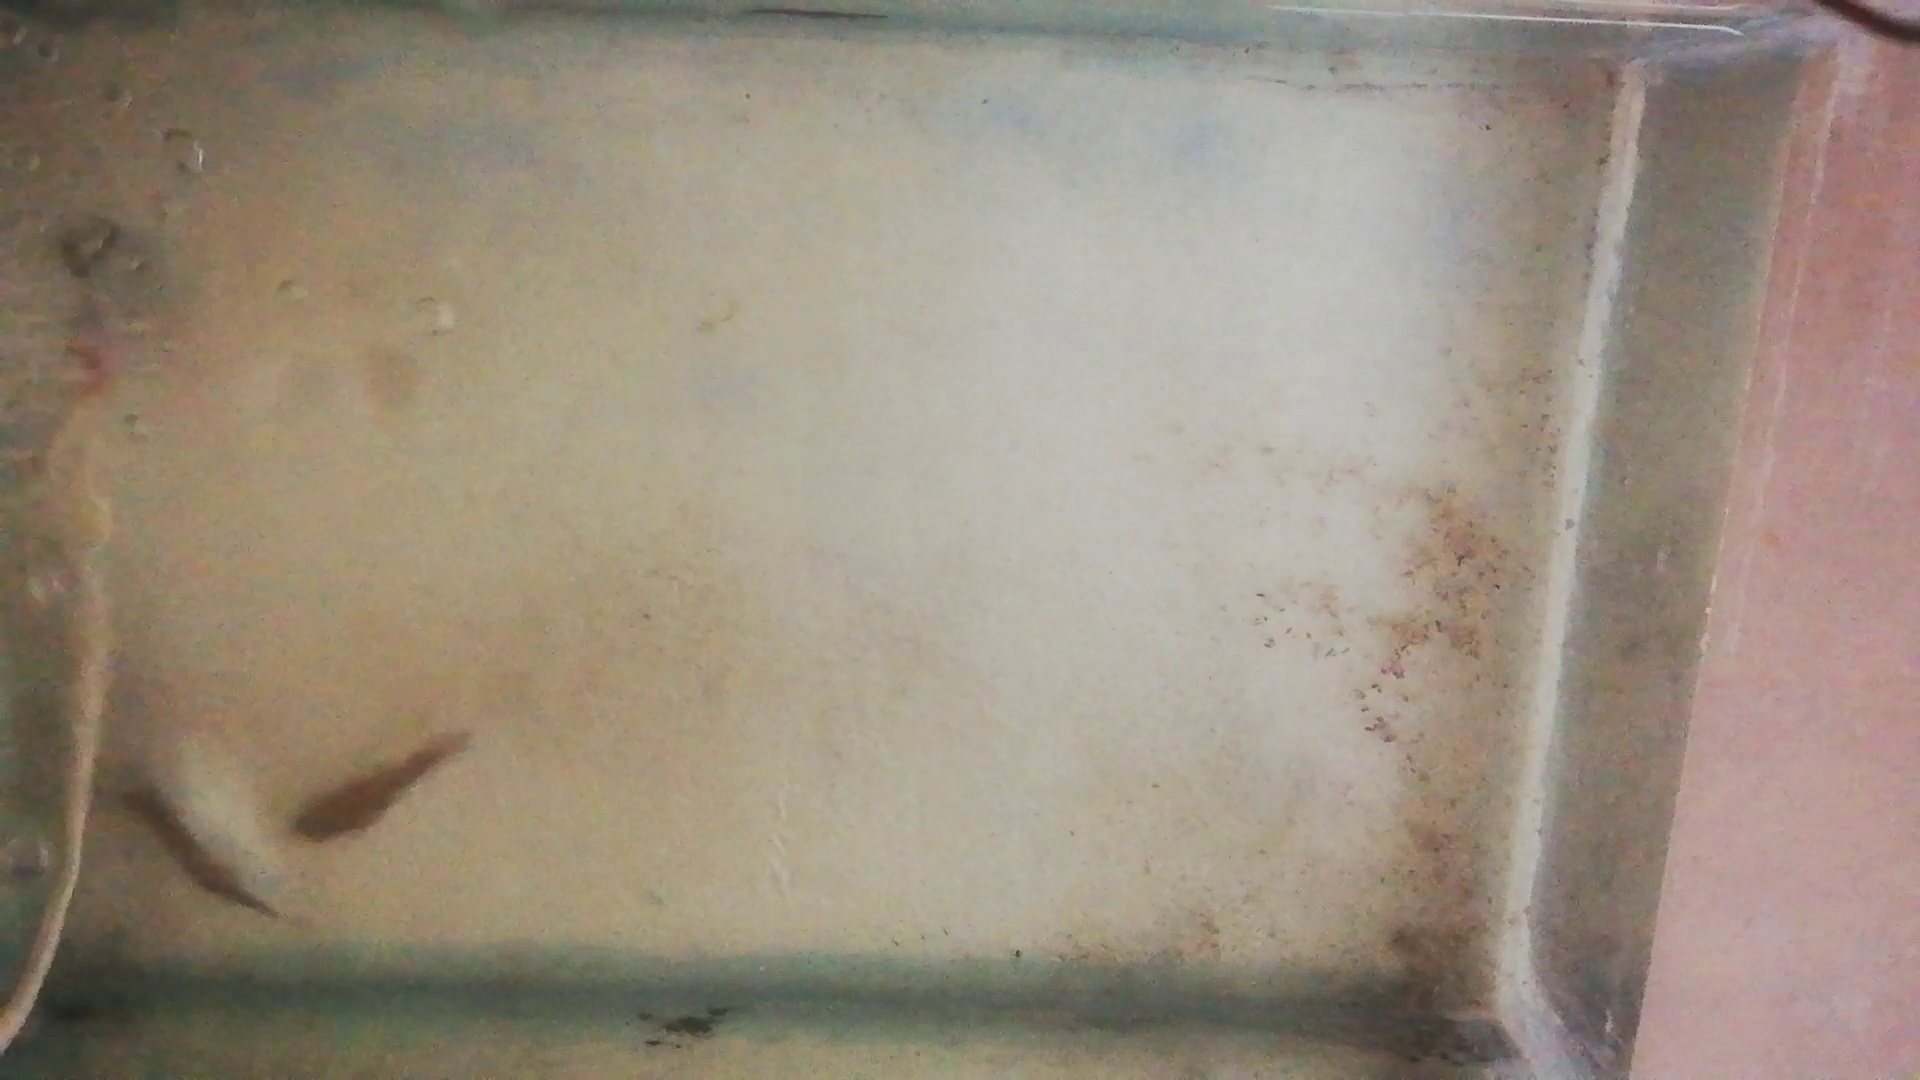fish: (117, 781, 281, 916), (293, 736, 472, 843)
